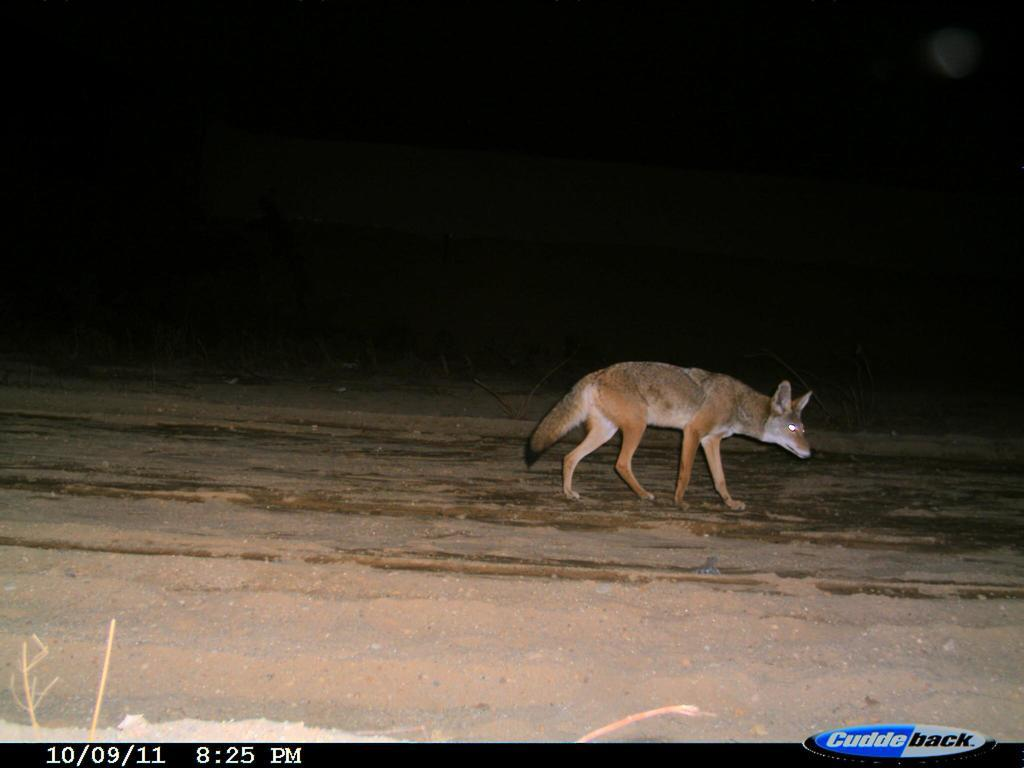coyote: (516, 350, 834, 534)
